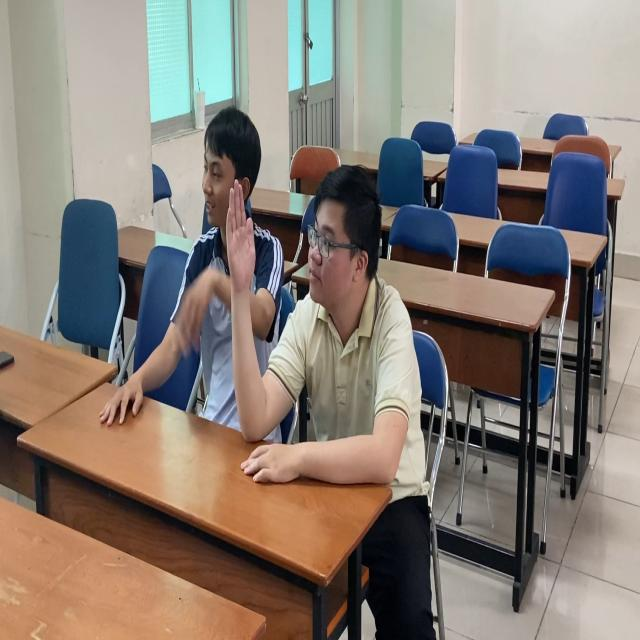raise_hand: (222, 149, 411, 549)
